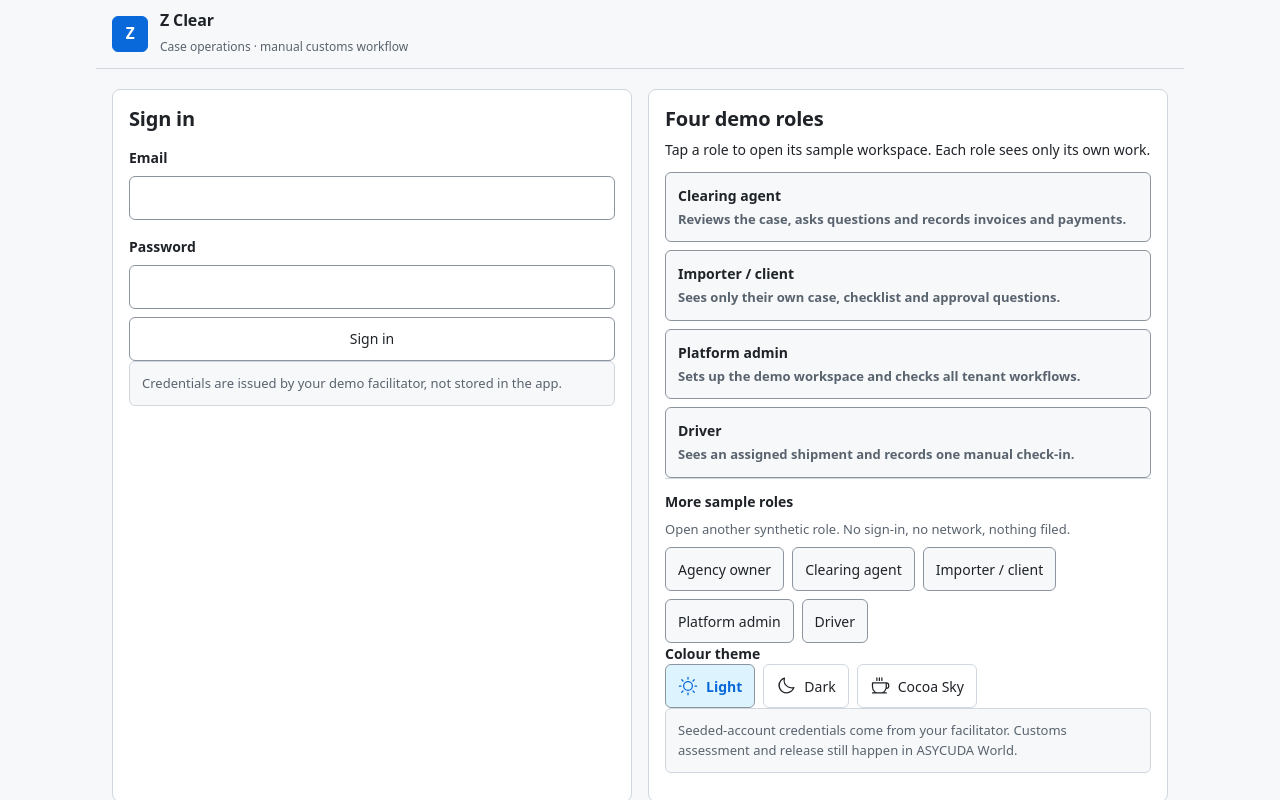
Test case: App › shows agency staff a real review inbox backed by GET /reviews
This screenshot has width=1280, height=800.
Type "agent@example.com" into the field labelled "Email" at (372, 198), box [129,176,615,220]
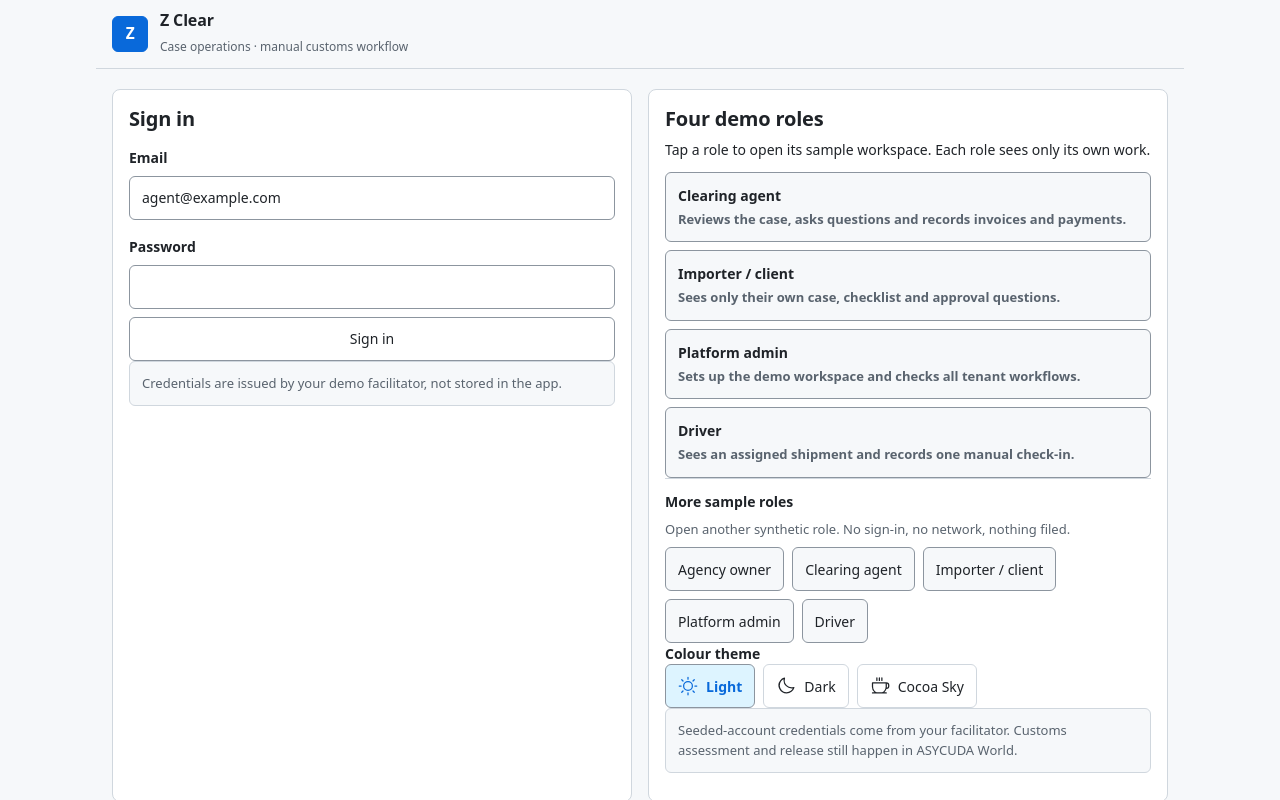
Type "demo-password" into the password field labelled "Password" at (372, 287), box [129,265,615,309]
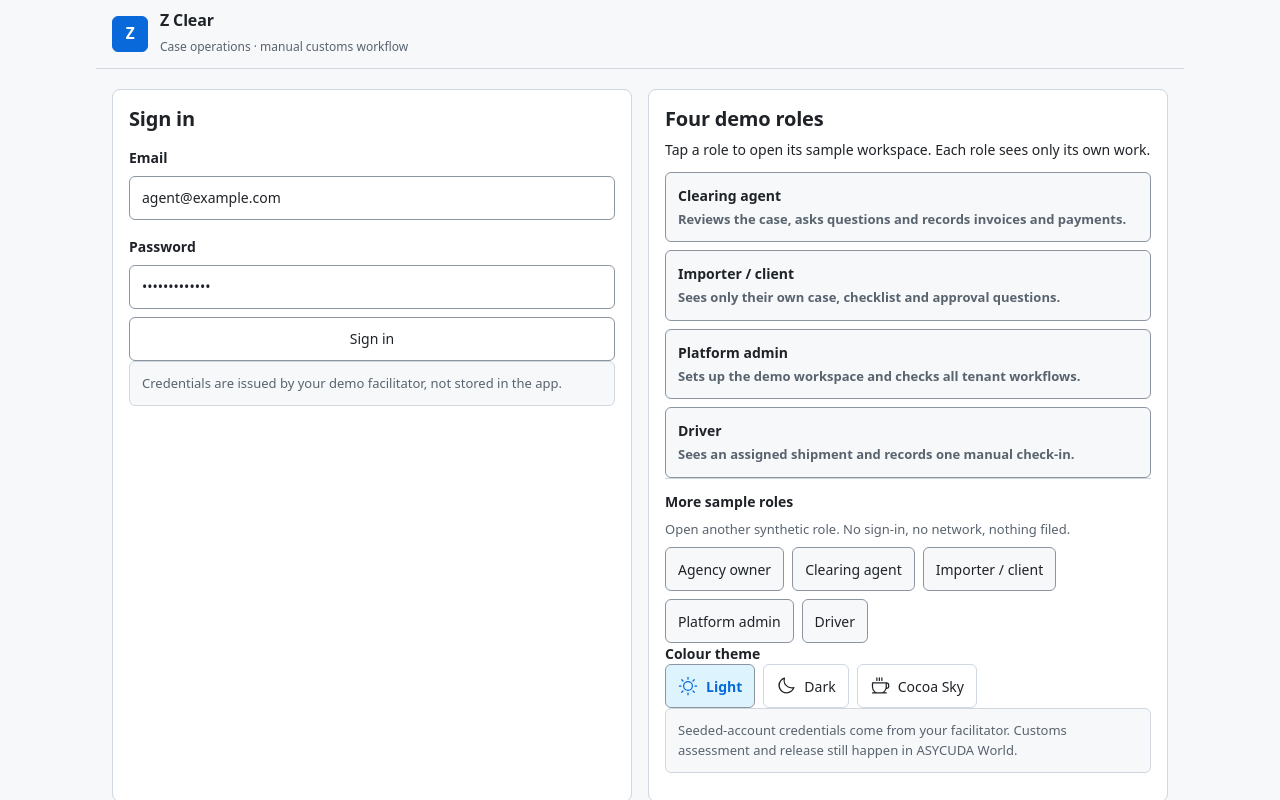
Click the button "Sign in" at (372, 339), box [129,317,615,361]
(page scrolled)
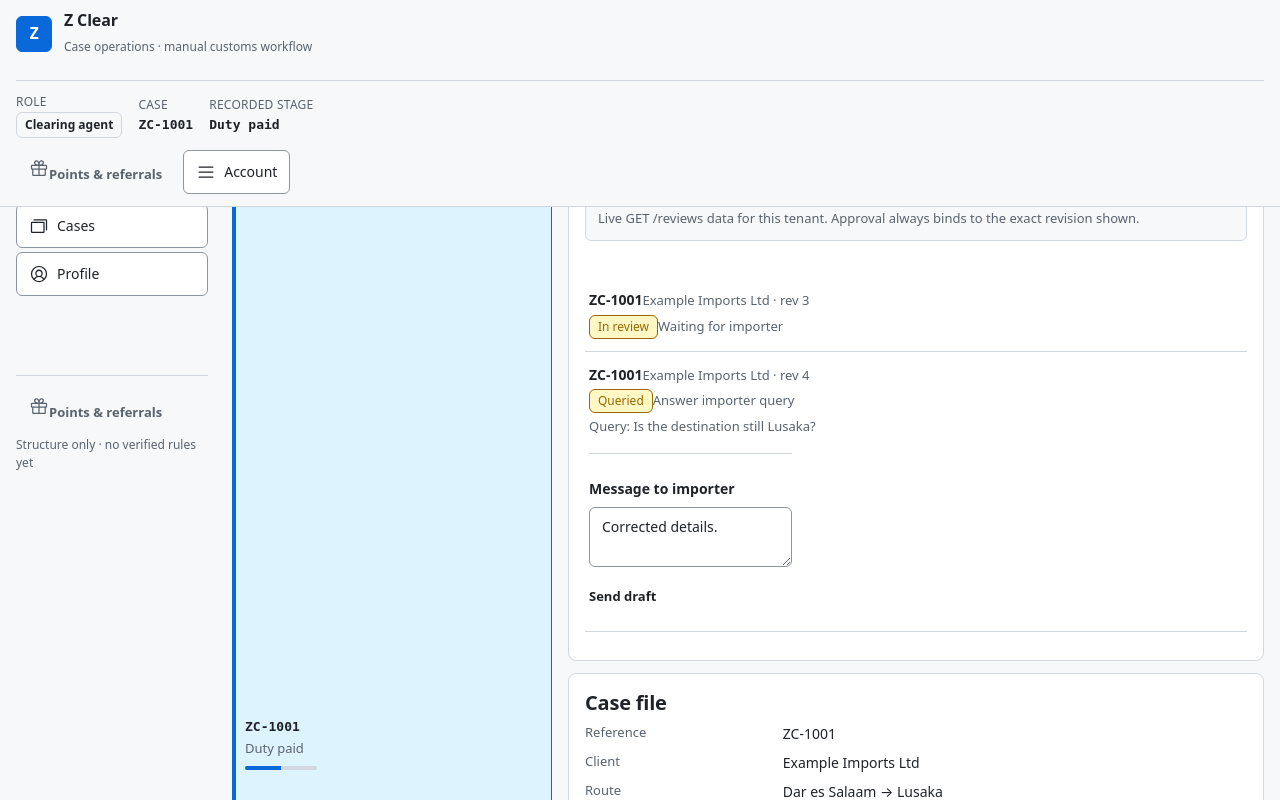
Expected: the text "Waiting for importer" is shown, [658,317,783,335]
Expected: the text "Answer importer query" is shown, [653,391,795,409]
